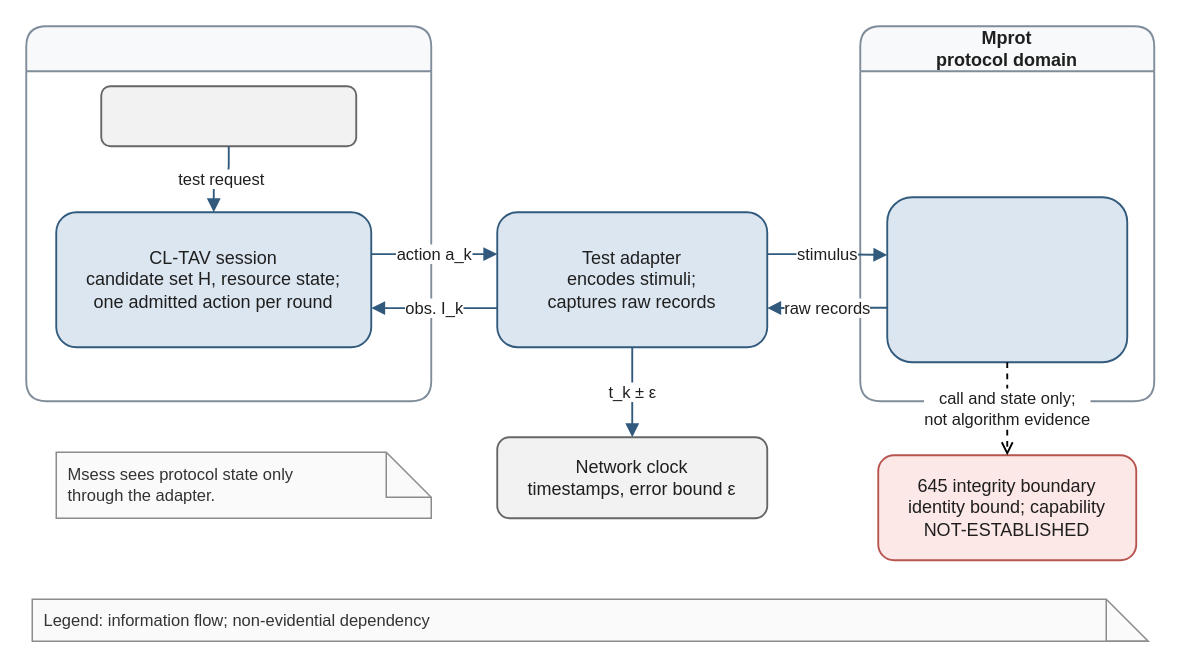
Some shapes in this 1182 by 669 pixel diagram are drawn without their labels. The box of each missing label's shape, as (x1, y1, x2, y2) in pixels:
IUT loader target; protocol messages and operation states live here: (886, 196, 1128, 363)
Msess verification session domain: (25, 25, 432, 402)
Operator: (100, 85, 357, 147)
